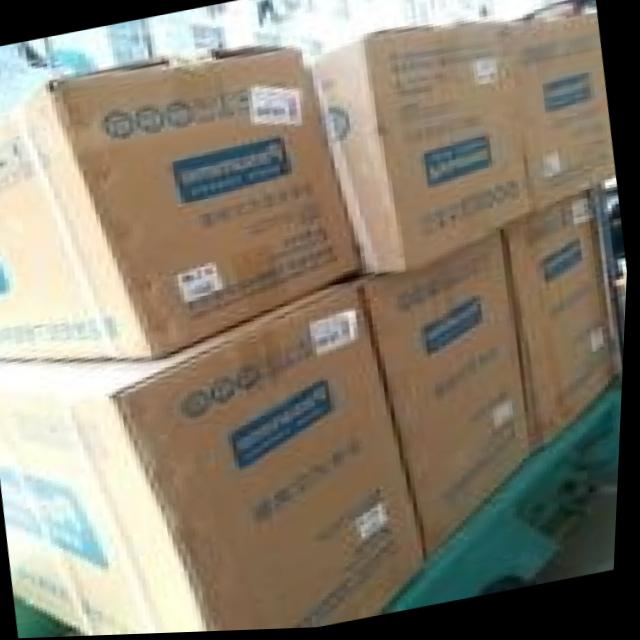box: (0, 286, 430, 637), (0, 47, 373, 362), (339, 231, 542, 563), (307, 25, 535, 275), (506, 196, 626, 457), (508, 17, 618, 216)
